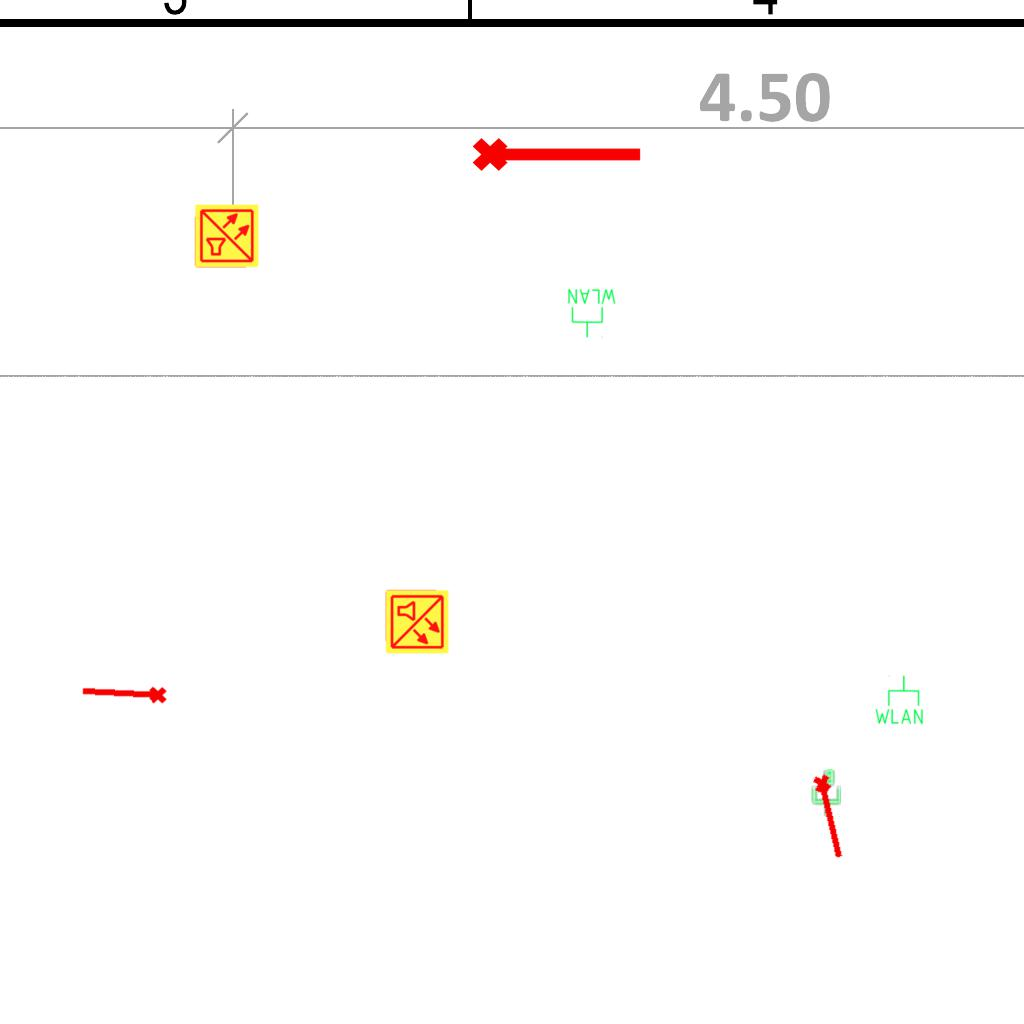ASR_Ansaugoeffnung: (470, 129, 646, 175), (809, 771, 853, 862), (79, 680, 169, 709)
Datenanschluss_einfach: (809, 768, 843, 818)
OKW_Multisensormelder_(Kombination_optischer_Rauch-Kahlenmonoxid_Waerme-Melder): (384, 589, 450, 655), (194, 203, 260, 269)
WLAN: (566, 287, 618, 339), (873, 674, 925, 726)
